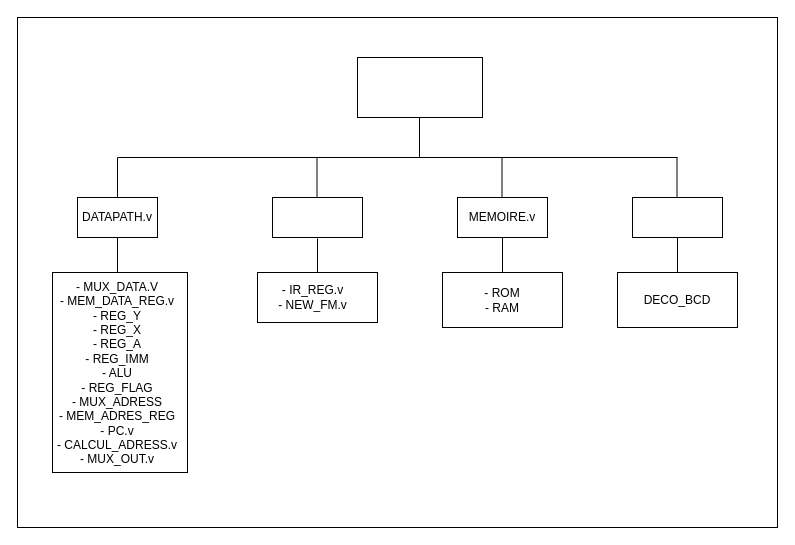
The diagram is 795 pixels wide and 545 high, and some of its shapes have lost their labels. Here are the shapes that lost their labels. From the top down, the centre of each, then its label:
the point at 419,87: CPU_6502.v
the point at 317,217: COMMANDE.v
the point at 677,217: OUTPUT.v
